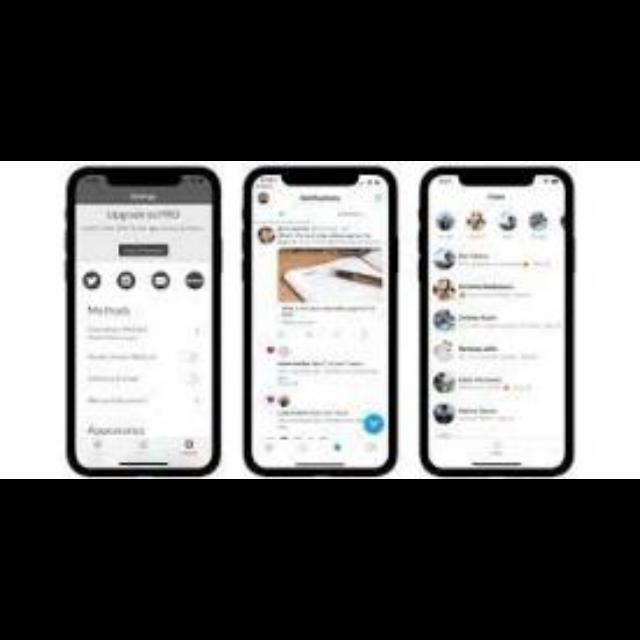PhoneUse: (242, 170, 400, 478), (65, 170, 223, 474), (422, 166, 574, 480)
